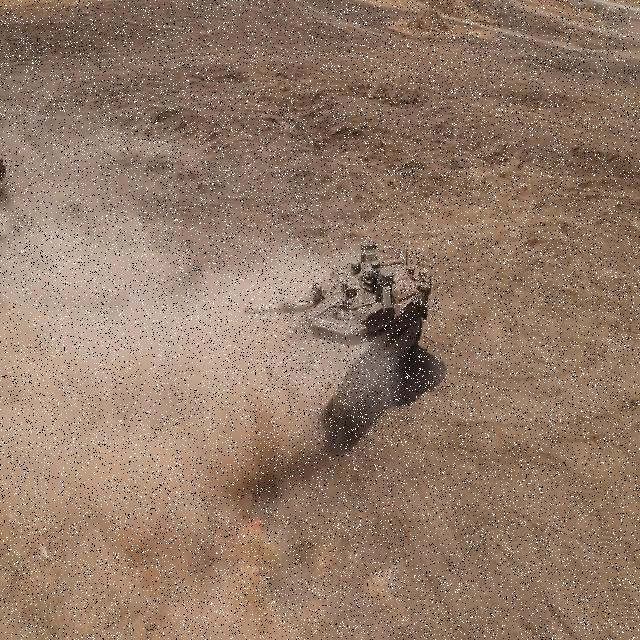MIL_MBT: (238, 222, 433, 446)
